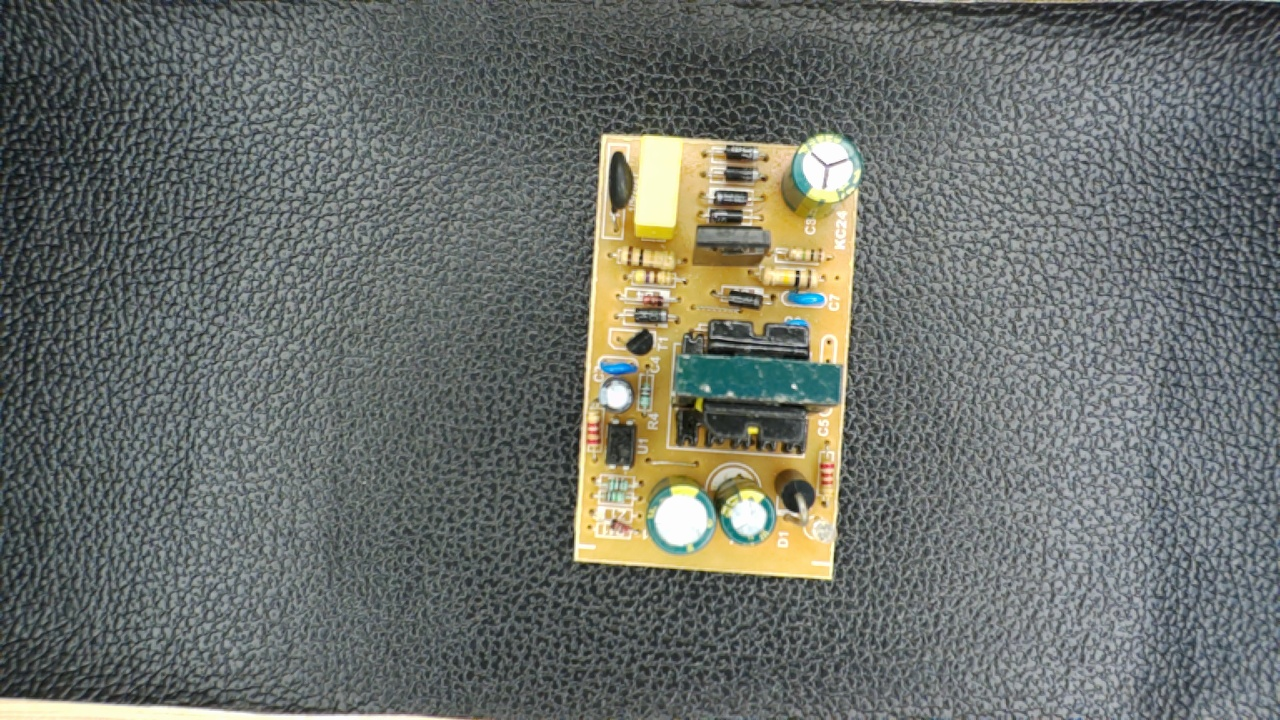fuse: (603, 141, 635, 225)
hv_capacitor: (783, 132, 861, 222)
optocoupler: (600, 414, 644, 471)
